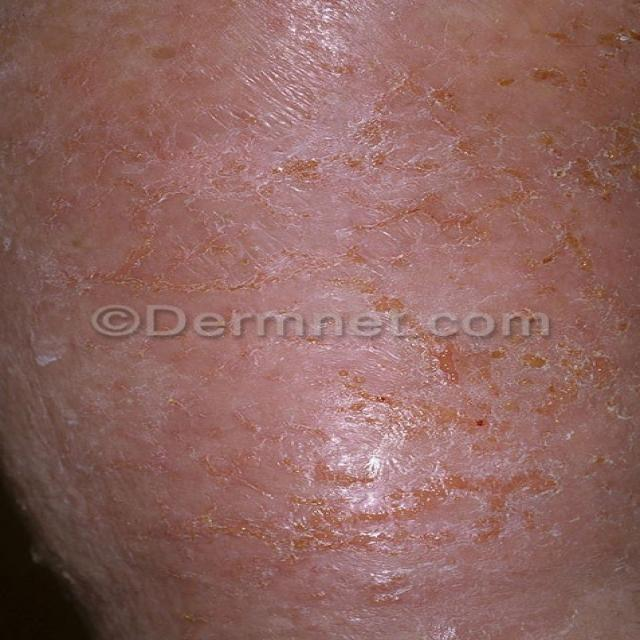Eczema: (64, 4, 640, 563)
